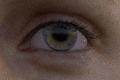eye: (45, 24, 77, 50)
